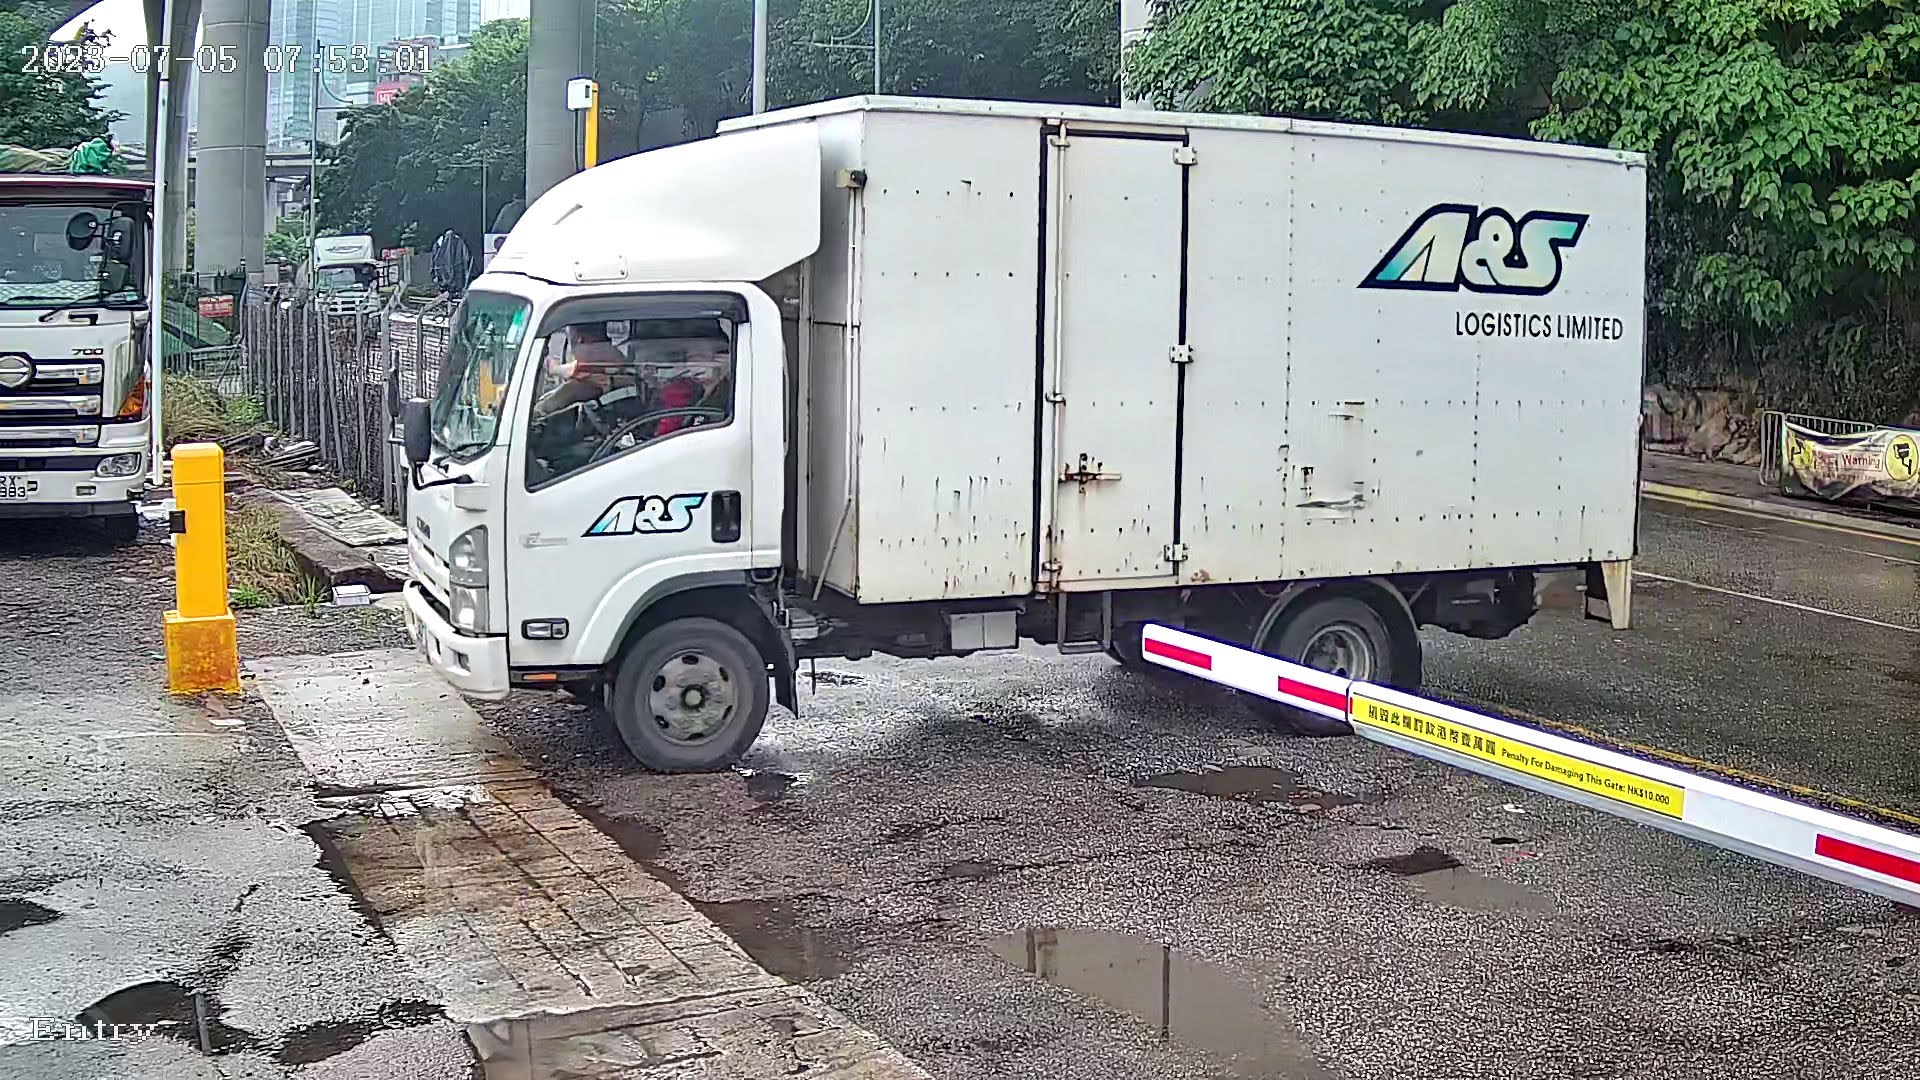truck_small: (347, 91, 1696, 789)
